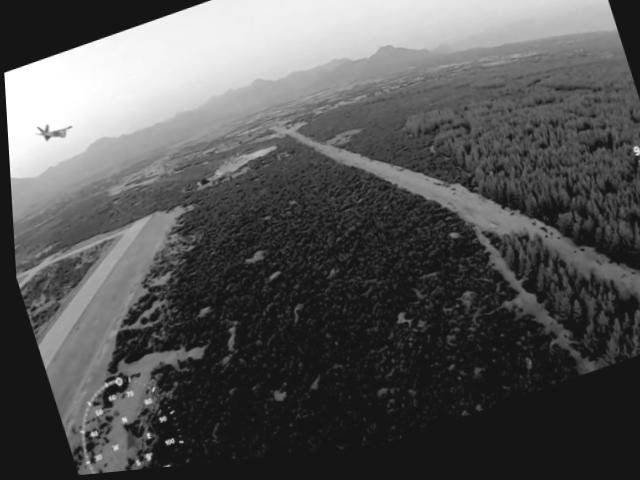hedef: (22, 106, 82, 158)
